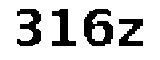1: (49, 7, 79, 52)
3: (6, 4, 46, 52)
6: (80, 5, 115, 51)
z: (115, 14, 151, 50)
